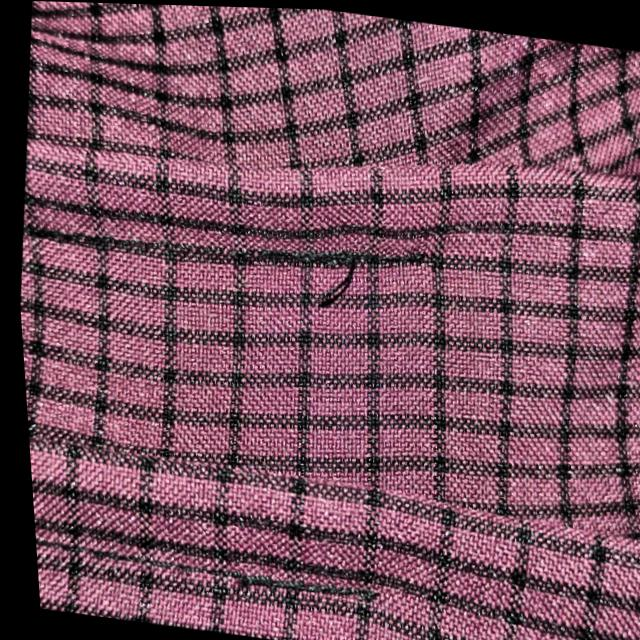Stitch: (277, 167, 420, 339)
